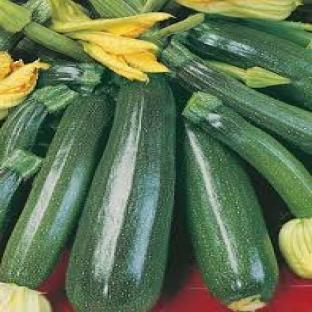Zucchini: (67, 76, 175, 311), (0, 97, 114, 288), (184, 125, 278, 310), (164, 41, 311, 153), (184, 93, 311, 218), (187, 19, 311, 109), (0, 86, 79, 163), (0, 150, 41, 247), (39, 60, 104, 91)
